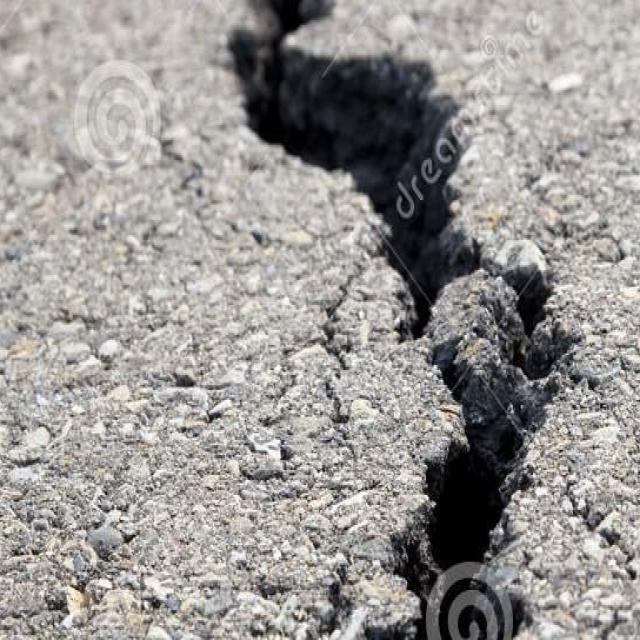Network: (218, 0, 576, 640)
